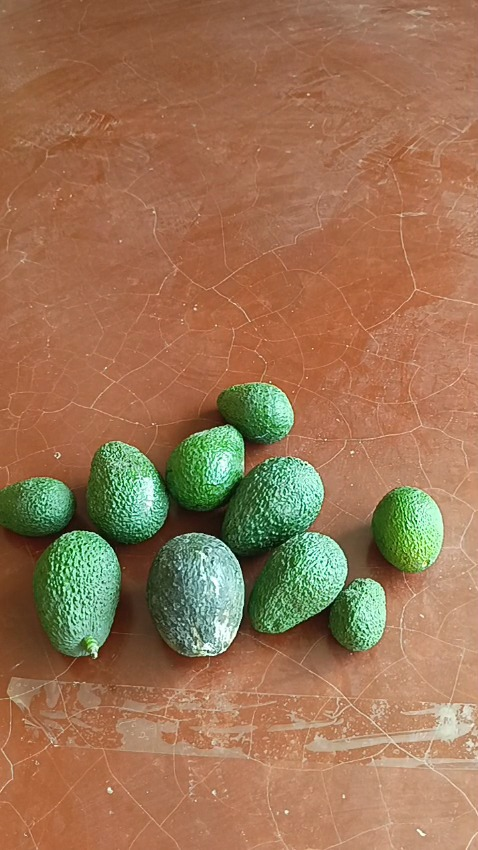Primera: (146, 533, 248, 657), (31, 529, 122, 657), (222, 456, 325, 556), (249, 532, 348, 634), (84, 442, 169, 545), (166, 427, 248, 513)
Segunda: (370, 486, 444, 573), (217, 381, 294, 442), (0, 478, 75, 537)
Tercera: (327, 577, 386, 650)
